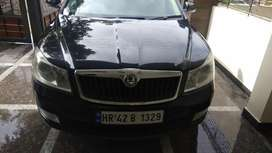HR4281329: (95, 109, 165, 123)
